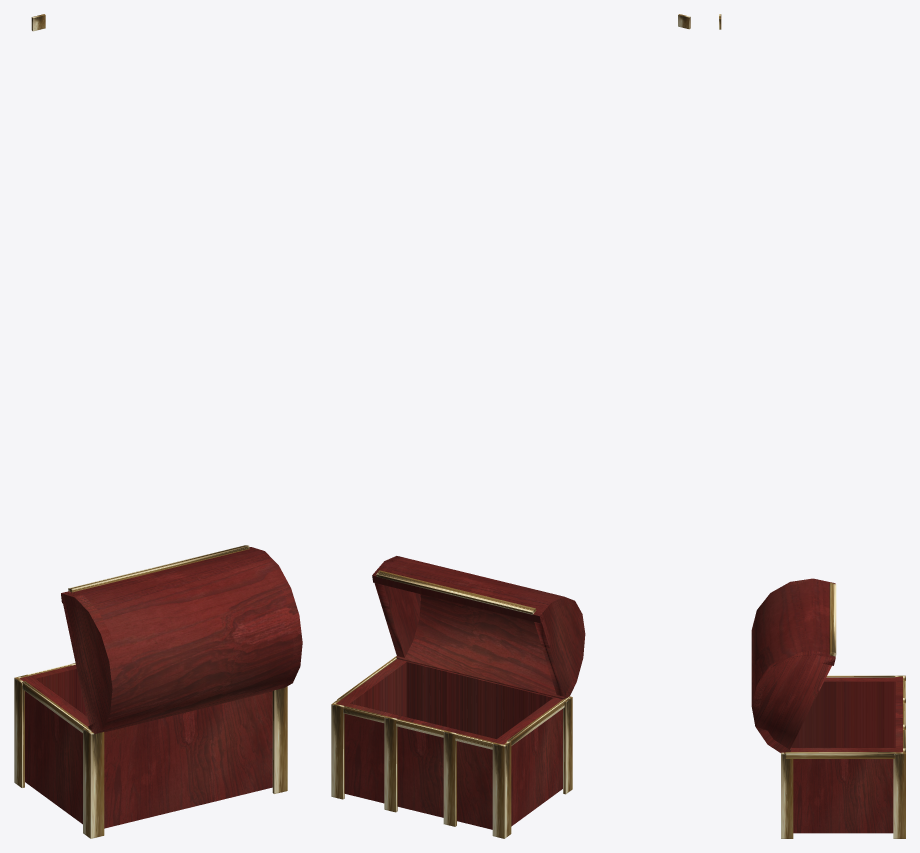
File: chest for unity.fbx
3 renders of one model, left to right at view 1: azimuth 30°, elevation 25°; view 2: azimuth 150°, elevation 25°; view 3: azimuth 270°, elevation 25°, orthographic. The views are drawn at different scales.
Visible parts, largest first — view 1: Half_cylinder, Cube, Cube_1_3, Cube_2, Cube_2_5, top, Cube_1_2, top_side_2; view 2: Cube, Half_cylinder, Cube_2_4, Cube_1_7, Cube_2_6, top, Cube_1_6, top_2, Cube_1_2, Cube_2_5; view 3: Cube, Half_cylinder, Cube_1_5, Cube_2_2, top_side, top.
Part boxes in pixels (x1,y1,x2,y2): Half_cylinder: (61,547,302,734); Cube: (19,664,272,828); Cube_1_3: (272,686,287,793); Cube_2: (90,732,104,838); Cube_2_5: (14,677,24,787); top: (68,545,249,592); Cube_1_2: (83,728,93,838); top_side_2: (22,681,91,732); Cube: (336,659,562,829); Half_cylinder: (372,556,585,699); Cube_2_4: (331,703,344,799); Cube_1_7: (443,730,456,826); Cube_2_6: (384,716,397,812); top: (376,570,536,614); Cube_1_6: (492,742,505,838); top_2: (343,706,493,749); Cube_1_2: (563,696,572,794); Cube_2_5: (502,741,511,838); Cube: (790,677,902,833); Half_cylinder: (751,578,835,752); Cube_1_5: (893,752,905,838); Cube_2_2: (781,752,793,838); top_side: (785,752,895,758); top: (829,582,836,656).
Size of the model in its own units: 462 by 1315 by 314.
Materials: 2 (2 with a texture image).
